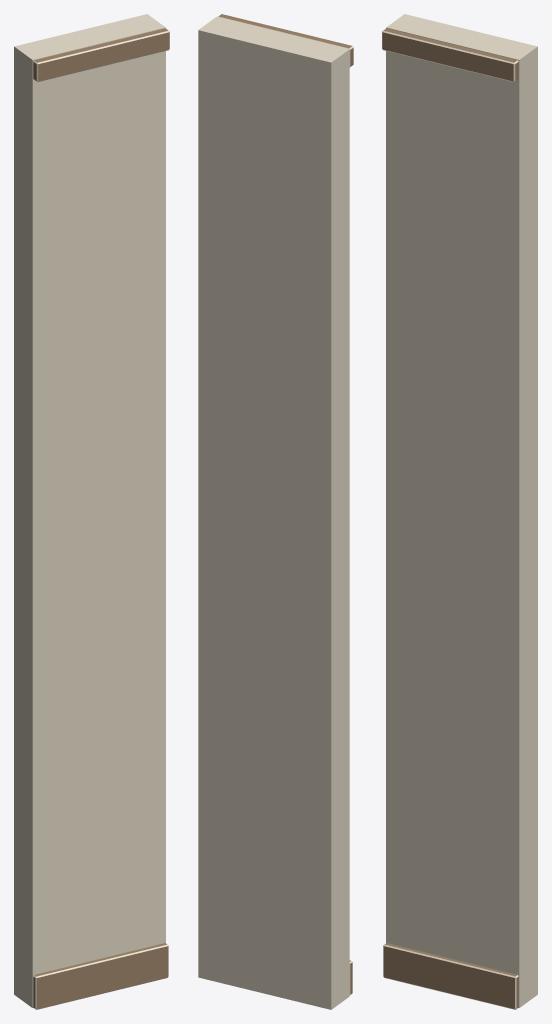
Rendered from muro_medio_340.glb.
3 views of the same model, side by side, from view 1: azimuth 30°, elevation 25°; view 2: azimuth 150°, elevation 25°; view 3: azimuth 330°, elevation 25° (orthographic).
Visible parts, largest first — view 1: muro_medio_340; view 2: muro_medio_340; view 3: muro_medio_340.
Part boxes in pixels (x1,y1,x2,y2): muro_medio_340: (14, 14, 169, 1009); muro_medio_340: (198, 14, 353, 1009); muro_medio_340: (382, 14, 537, 1009).
Bounding box in the file's own units: 0.5 × 3.4 × 0.15.
